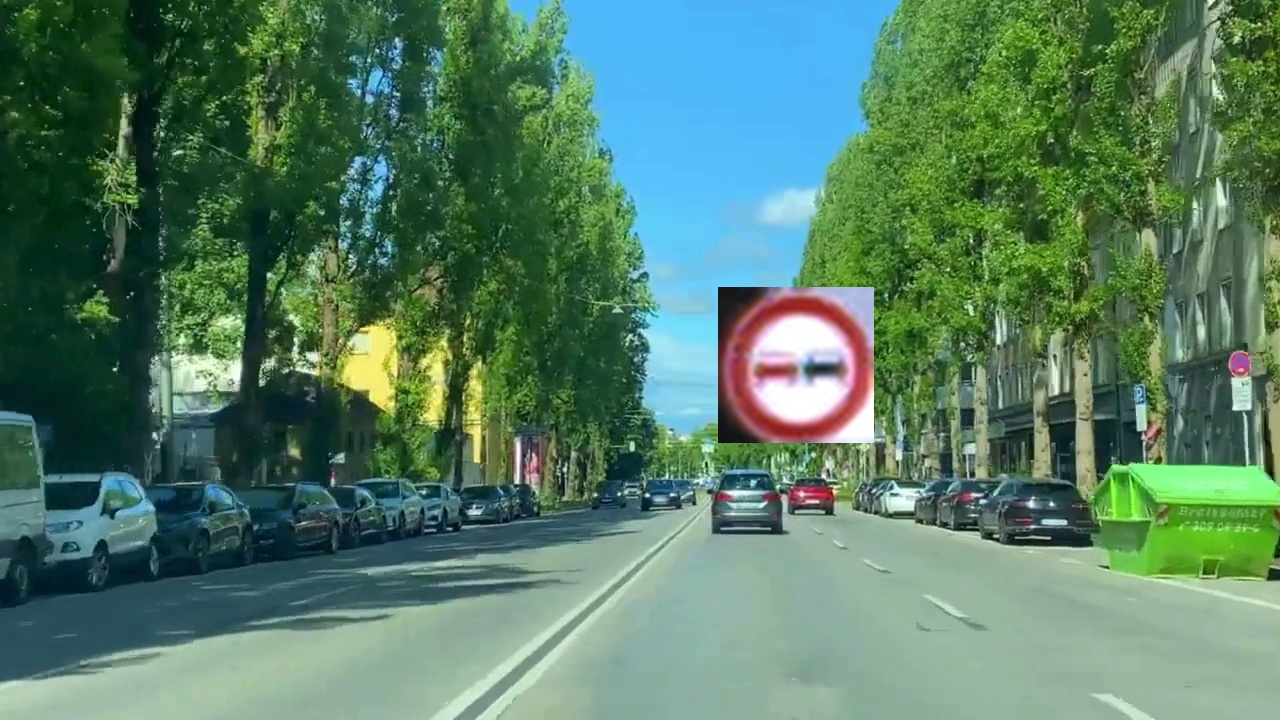No passing: (718, 287, 874, 443)
